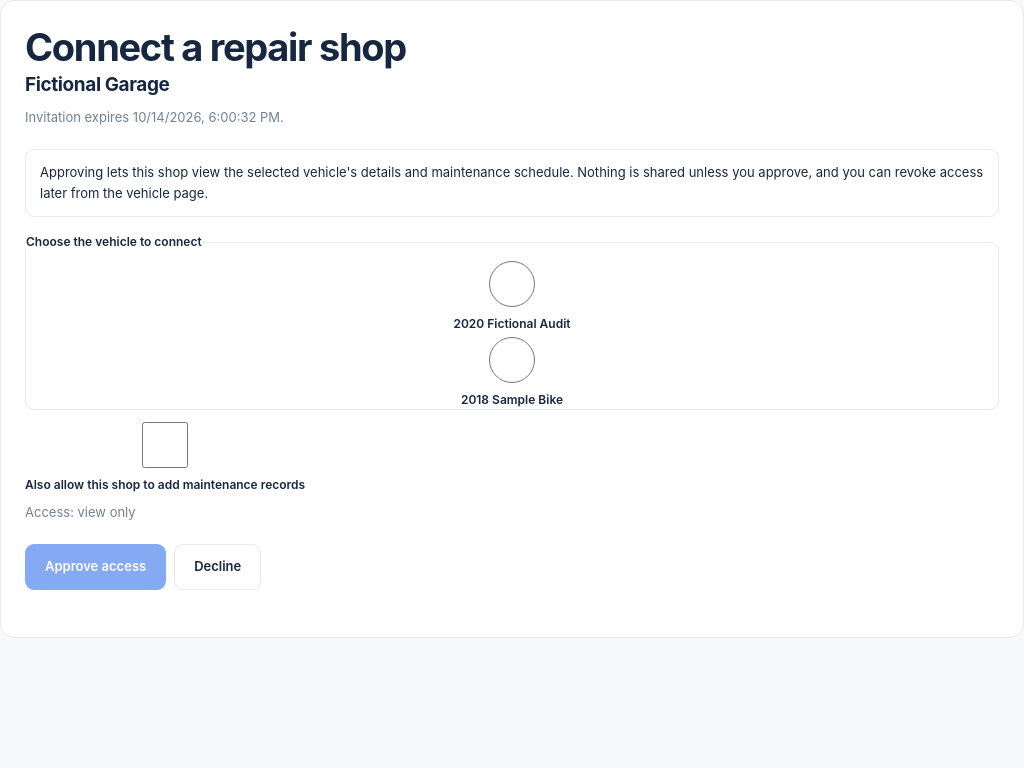
becomes unavailable if the link is consumed before approval
Expected: the heading "Fictional Garage" is shown, [25,73,170,96]
Click the radio button labelled "2020 Fictional Audit".
click(512, 284)  # box [26,261,998,307]
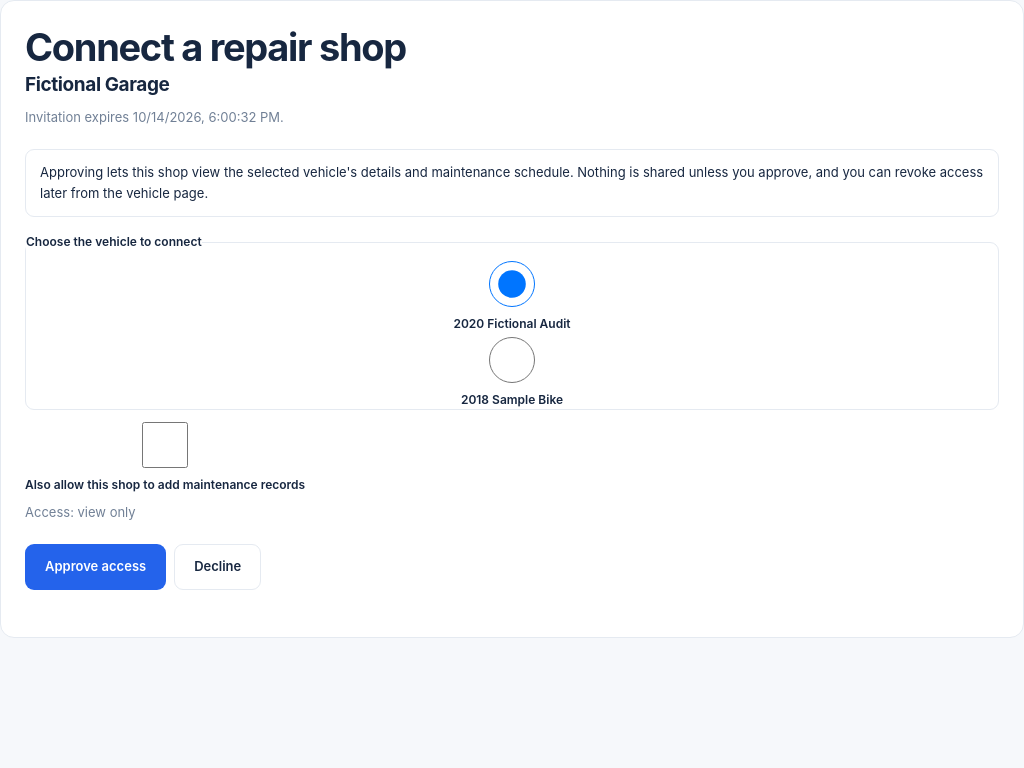
Click the button "Approve access".
click(96, 567)  # box [25,544,166,590]
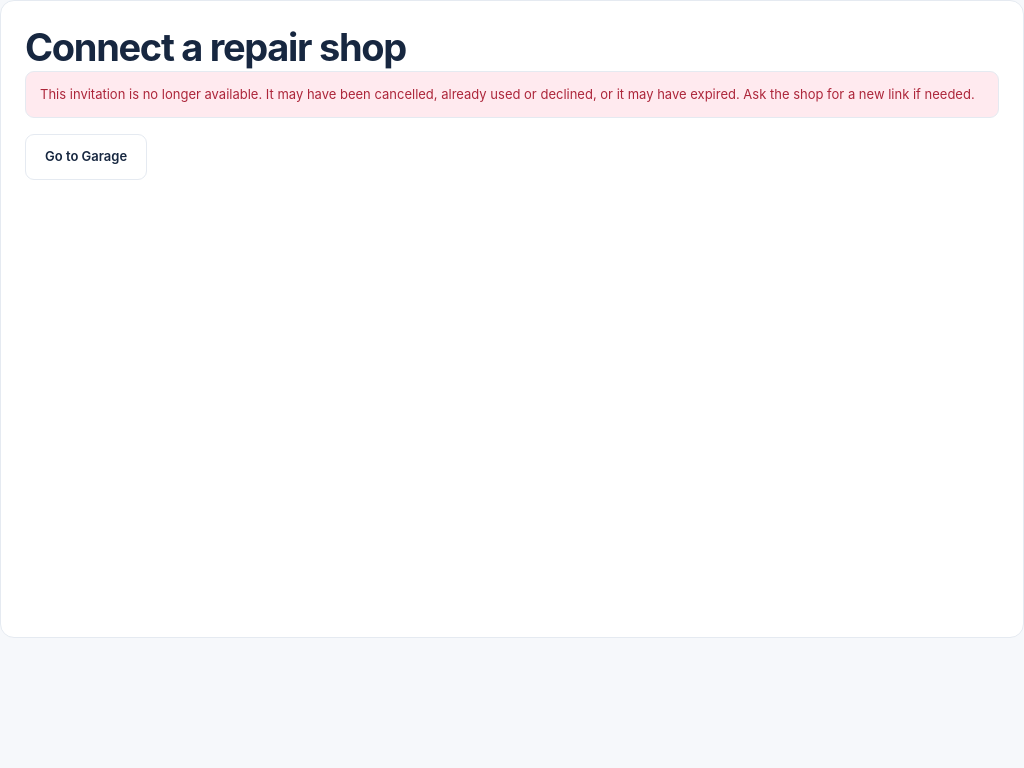
Expected: the text "no longer available" is shown, [40,86,975,102]
Expected: the text "Vehicle page" is gone
